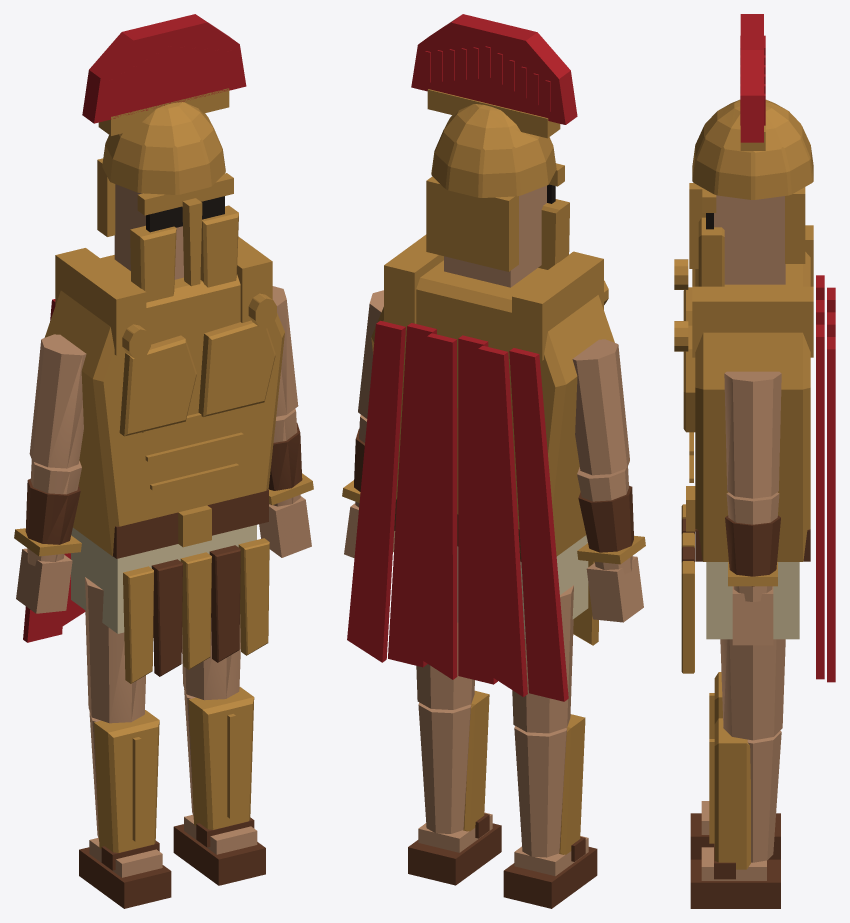
The model's file is spartan-body.glb.
3 views of the same model, side by side, from view 1: azimuth 30°, elevation 25°; view 2: azimuth 150°, elevation 25°; view 3: azimuth 270°, elevation 25° (orthographic).
Visible parts, largest first — view 1: Cuirass, TransverseCrest, HelmetCrown, Greave1, Greave-1, UpperArm-1, ChestPlate1, ChestPlate-1, Tunic, Thigh-1, ShoulderStrap-1, Belt (+35 smaller); view 2: Cuirass, CapeFold0, CapeFold3, CapeFold5, CapeFold1, TransverseCrest, CapeFold2, CapeFold4, HelmetCrown, HelmetBack, UpperArm-1, Shin-1 (+21 smaller); view 3: Cuirass, HelmetCrown, UpperArm1, ShoulderStrap1, Thigh1, Face, Greave1, Tunic, Shin1, CapeFold4, Sandal1, CapeFold5 (+20 smaller).
Boxes of the visible parts, x1,y1,x2,y2 form: Cuirass: (44, 255, 284, 556); TransverseCrest: (82, 14, 246, 123); HelmetCrown: (102, 102, 225, 194); Greave1: (188, 687, 254, 829); Greave-1: (94, 710, 159, 852); UpperArm-1: (29, 334, 86, 468); ChestPlate1: (198, 320, 275, 416); ChestPlate-1: (119, 335, 196, 436); Tunic: (71, 525, 256, 633); Thigh-1: (85, 577, 145, 723); ShoulderStrap-1: (55, 248, 146, 355); Belt: (113, 489, 268, 558); Cuirass: (371, 260, 614, 556); CapeFold0: (509, 348, 568, 701); CapeFold3: (417, 333, 457, 679); CapeFold5: (347, 320, 405, 662); CapeFold1: (478, 345, 527, 696); TransverseCrest: (411, 14, 577, 124); CapeFold2: (458, 335, 497, 684); CapeFold4: (388, 323, 436, 667); HelmetCrown: (431, 104, 556, 197); HelmetBack: (426, 176, 518, 271); UpperArm-1: (572, 339, 629, 475); Shin-1: (514, 726, 567, 857); Cuirass: (695, 252, 810, 561); HelmetCrown: (692, 99, 813, 199); UpperArm1: (724, 371, 781, 498); ShoulderStrap1: (692, 286, 813, 357); Thigh1: (720, 639, 785, 740); Face: (714, 195, 785, 284); Greave1: (714, 718, 750, 869); Tunic: (706, 562, 799, 639); Shin1: (747, 730, 781, 862); CapeFold4: (816, 324, 824, 679); Sandal1: (690, 859, 780, 908); CapeFold5: (827, 337, 835, 682).
Size of the model in its own units: 39.88 by 116 by 20.18.
